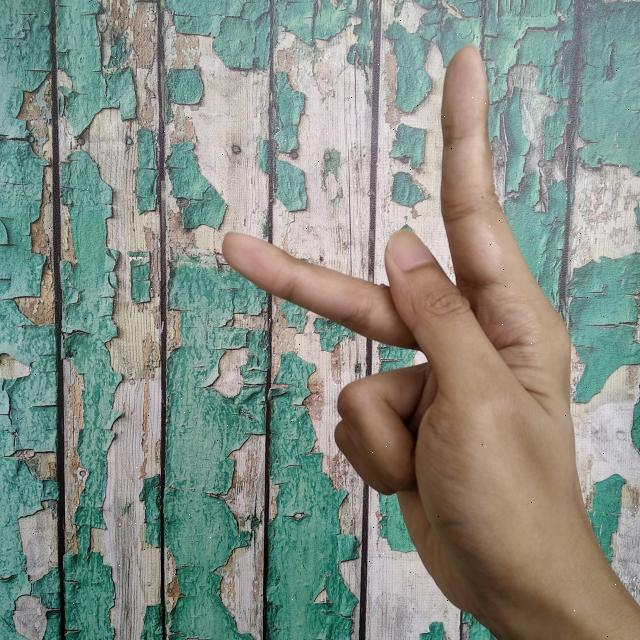K: (218, 36, 640, 639)
